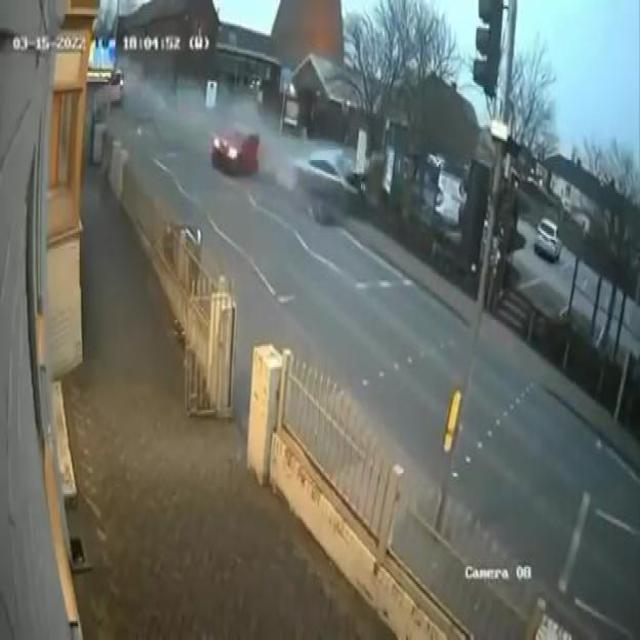accident: (208, 119, 377, 232)
